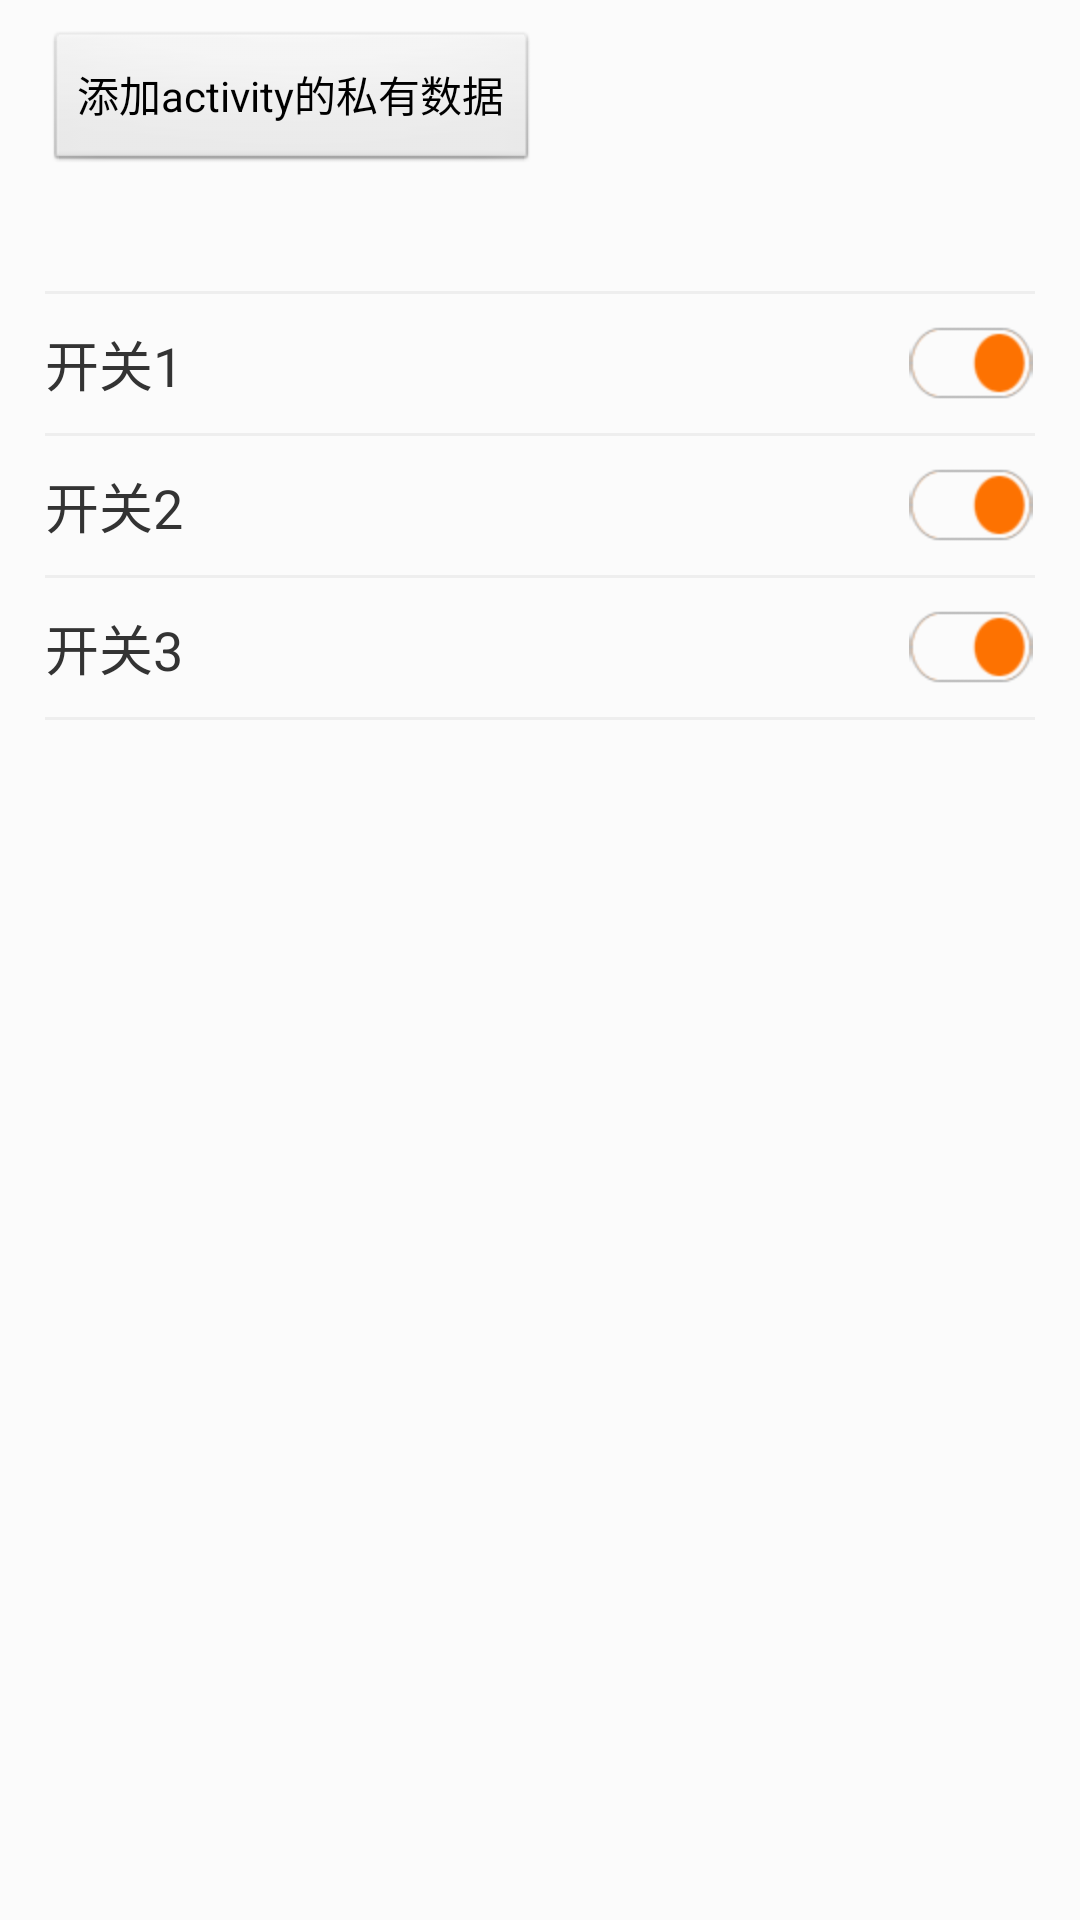

Named icons in this screenshot (1080x1920) and their centers, point (x, y):
alarm vibration switch: point (971, 363), point (971, 505), point (971, 647)
